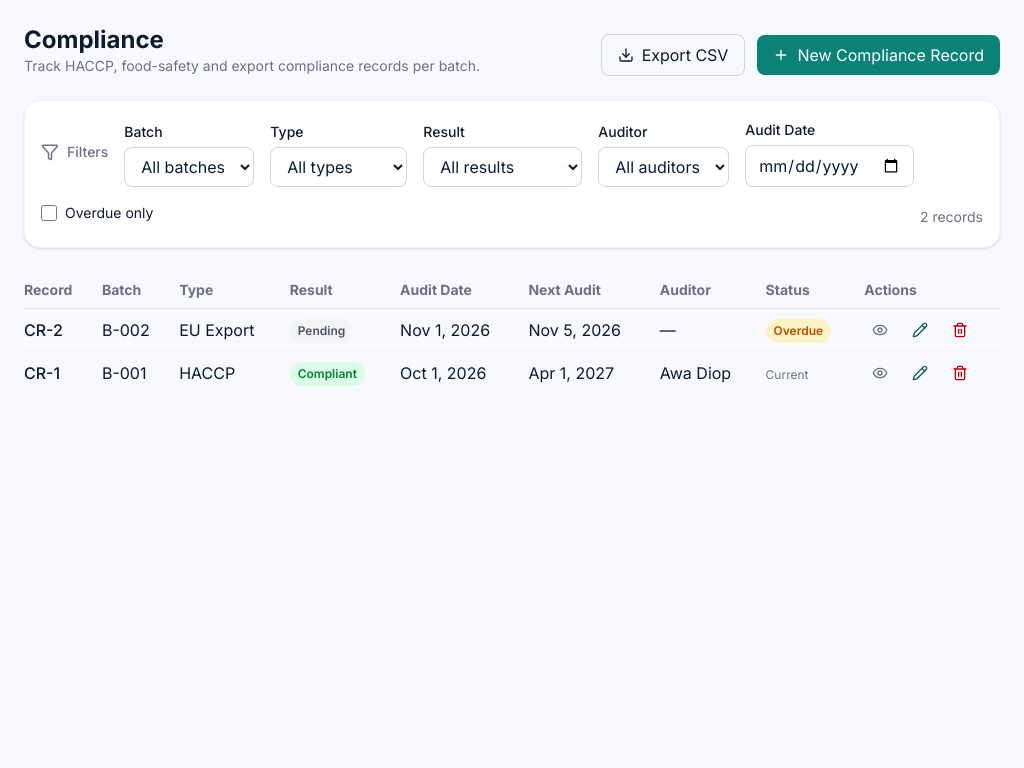
Test: ComplianceRecordList › shows the full record details
Expected: the text "CR-1" is shown, left=24, top=352, right=102, bottom=394
Click the button named "View" in the row of "CR-1" at (880, 373), box left=864, top=357, right=896, bottom=389
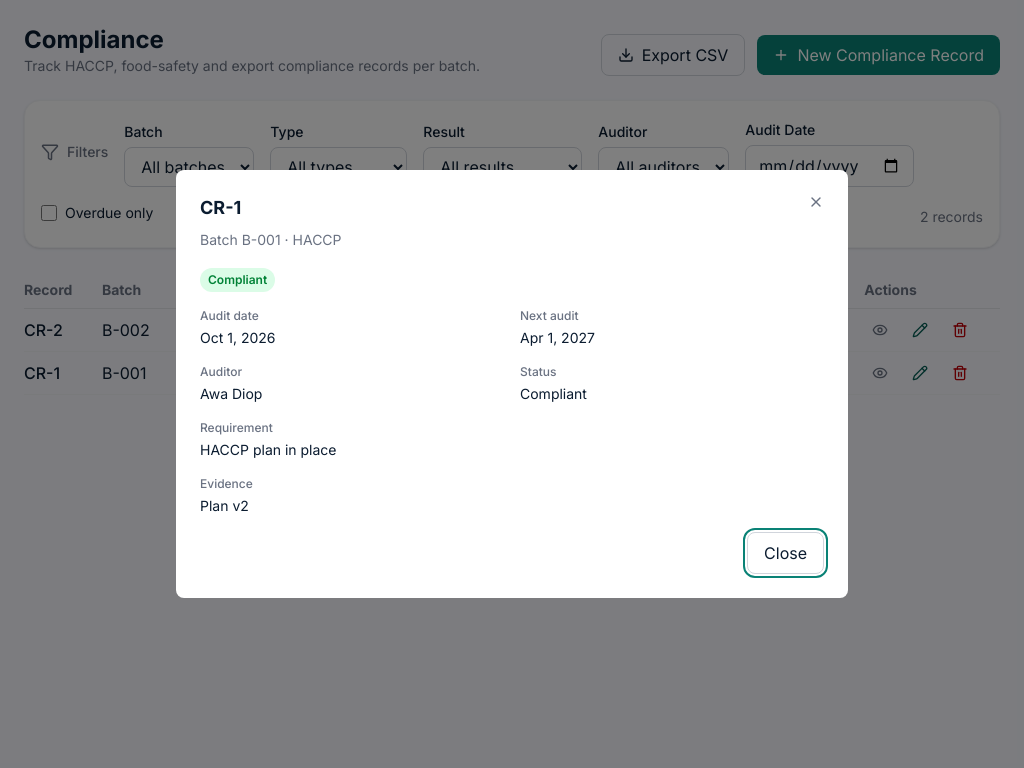
Now the text "HACCP plan in place" is shown, box left=200, top=441, right=336, bottom=458
Now the text "Plan v2" is shown, box left=200, top=497, right=249, bottom=514
Now the text "Awa Diop" is shown, box left=200, top=385, right=262, bottom=402
